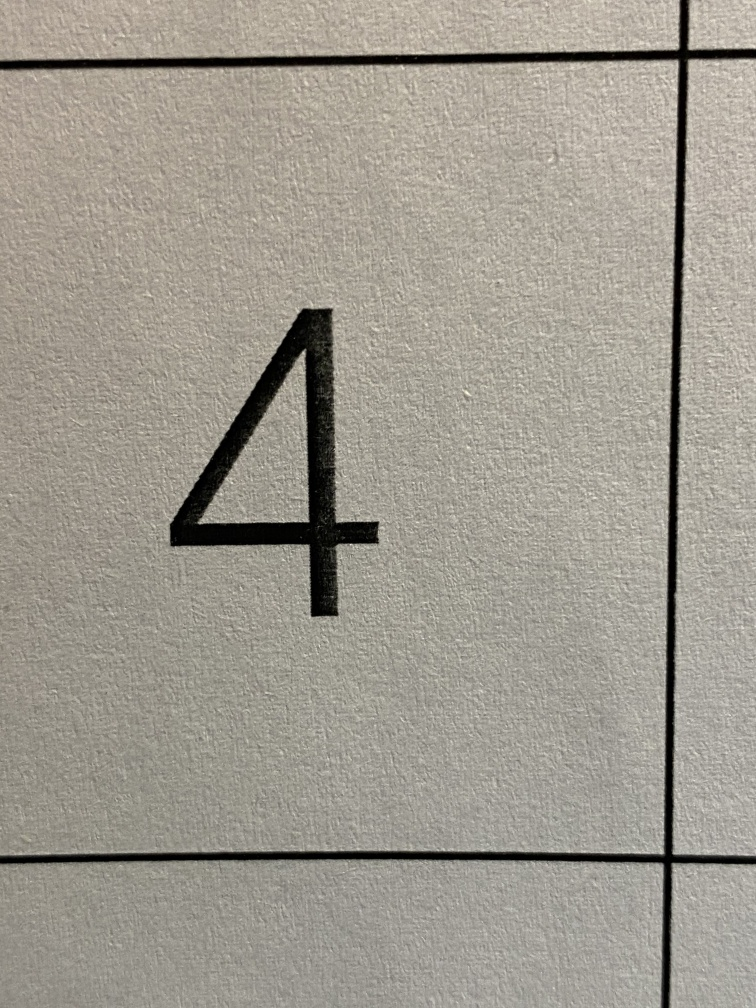four: (136, 256, 469, 680)
